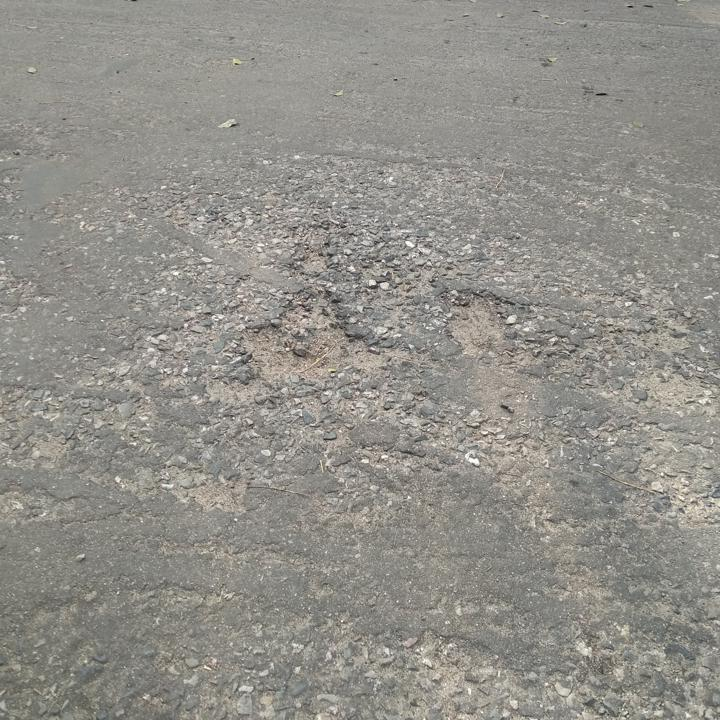pothole: (231, 289, 383, 381), (441, 292, 510, 357)
